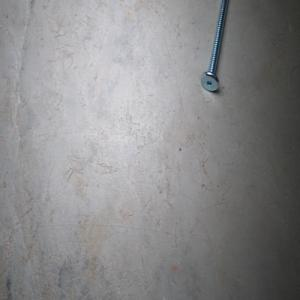Bolt: (200, 0, 228, 91)
